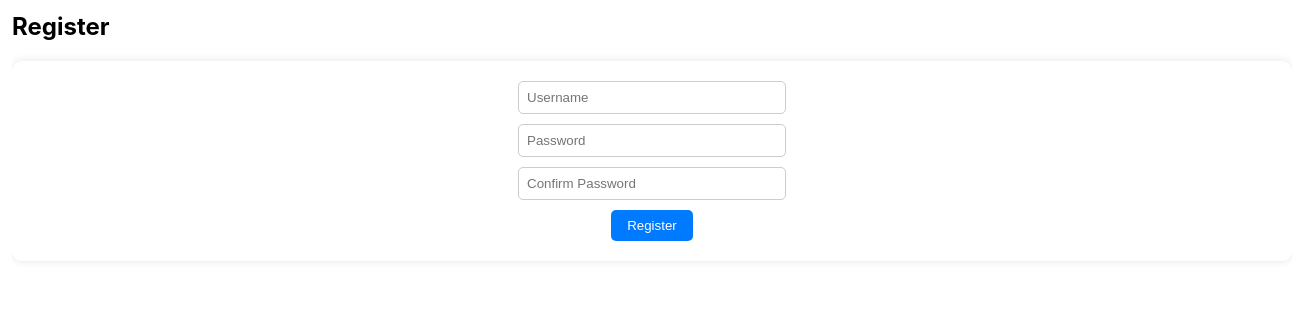
Test case: Register Component › registers user successfully
Type "testuser" into the field with placeholder "Username".
click(652, 97); type("testuser")  # box [518, 81, 786, 114]
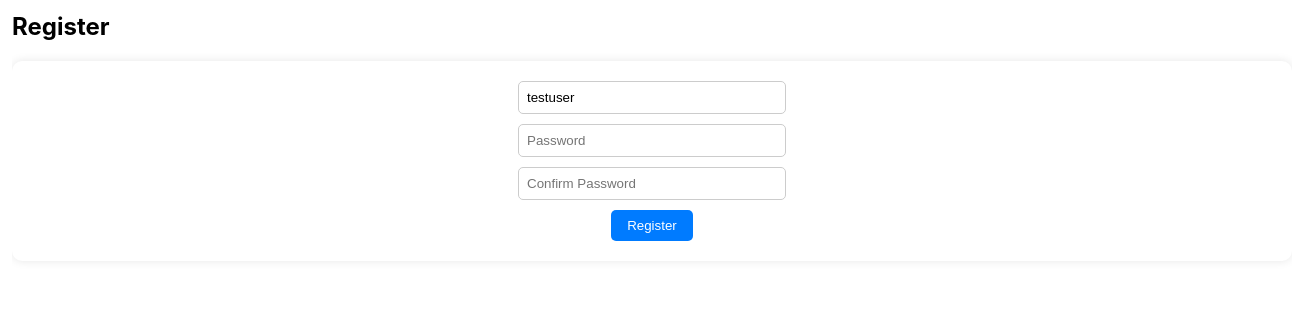
Type "password" into the password field with placeholder "Password".
click(652, 140); type("password")  # box [518, 124, 786, 157]
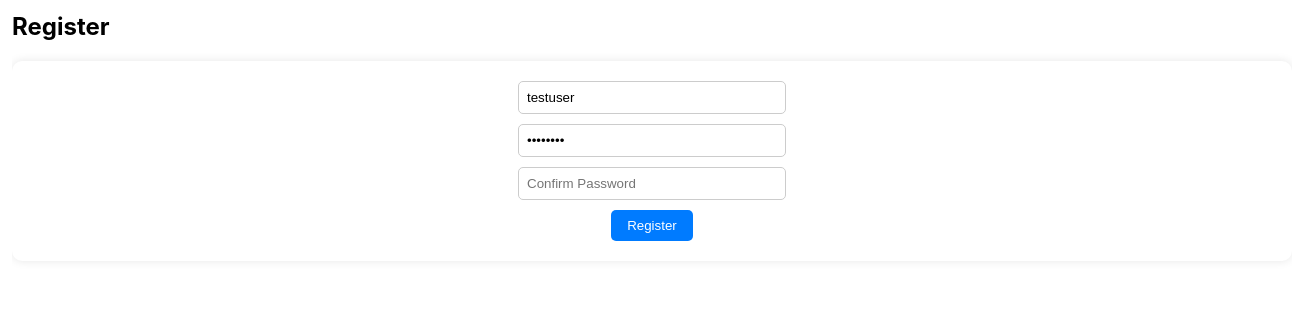
Type "password" into the password field with placeholder "Confirm Password".
click(652, 183); type("password")  # box [518, 167, 786, 200]
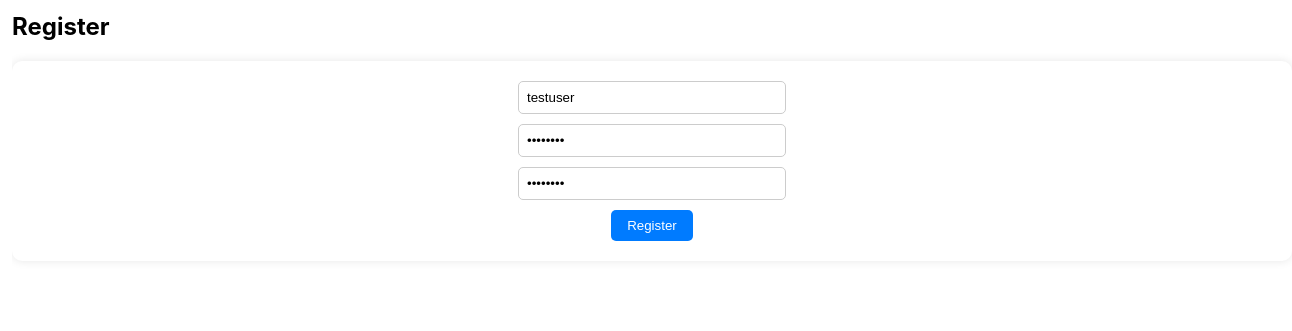
Click the button with test id "button-register".
click(652, 225)  # box [611, 210, 693, 241]
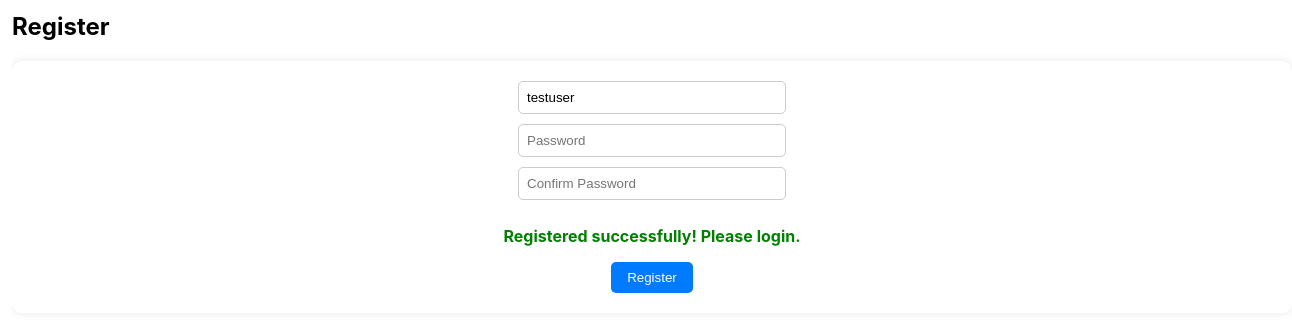
Result: the text "Registered successfully! Please login." is shown at [504, 226, 801, 246]
